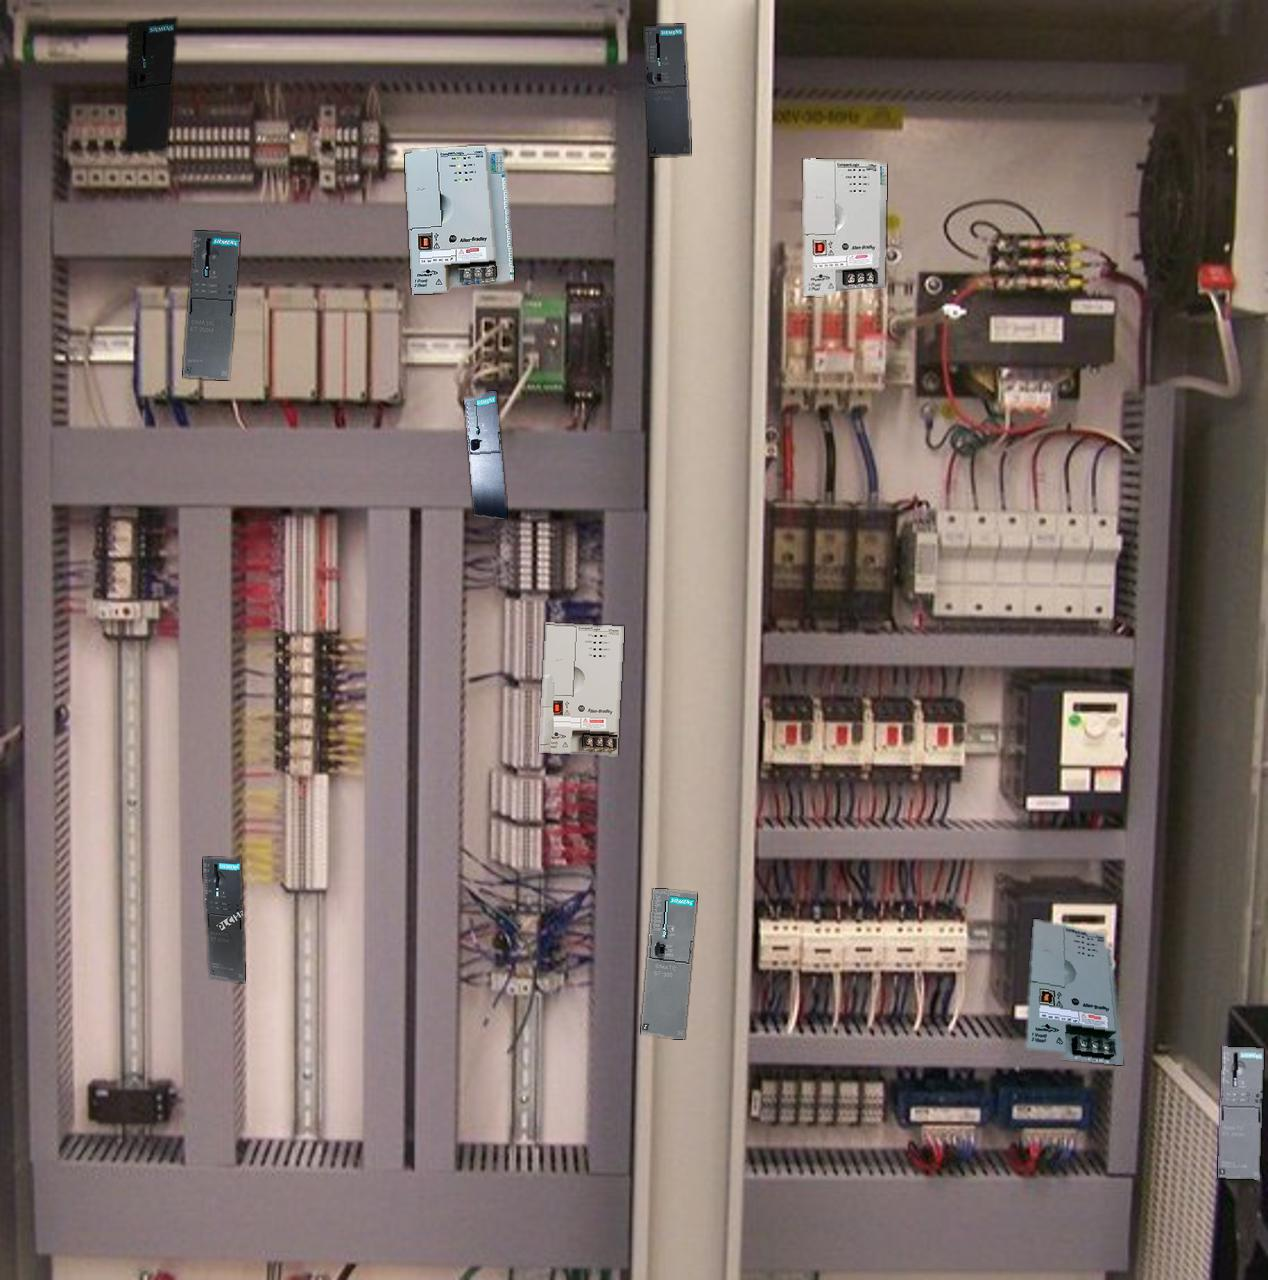AllenBradley: (404, 146, 513, 294), (1026, 919, 1122, 1064), (804, 158, 886, 295), (540, 623, 624, 754)
Siemens: (641, 889, 696, 1040), (125, 17, 176, 153), (644, 24, 690, 156), (464, 391, 506, 518)
